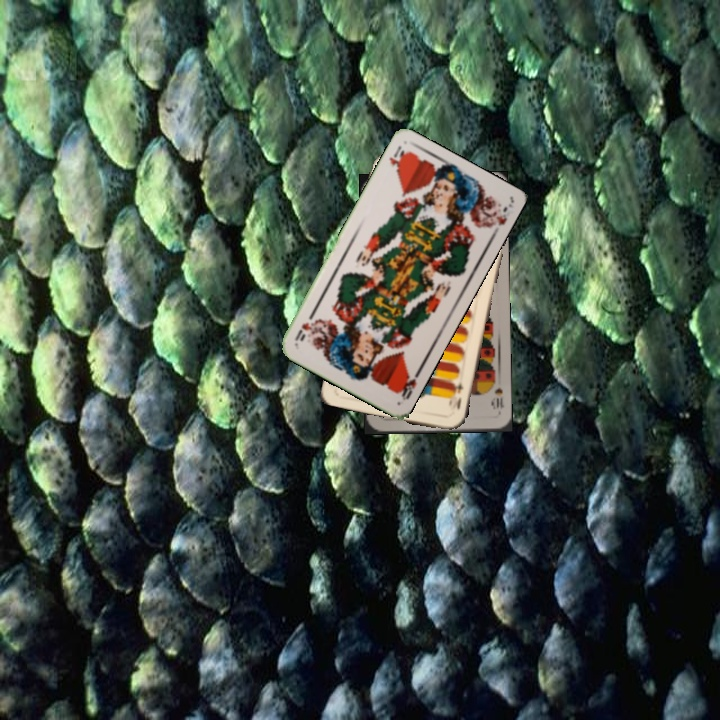E10: (445, 379, 466, 412)
HO: (393, 366, 423, 403), (385, 141, 410, 174)
S10: (487, 375, 507, 412)
